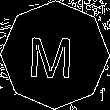M_N: (32, 30, 78, 80)
